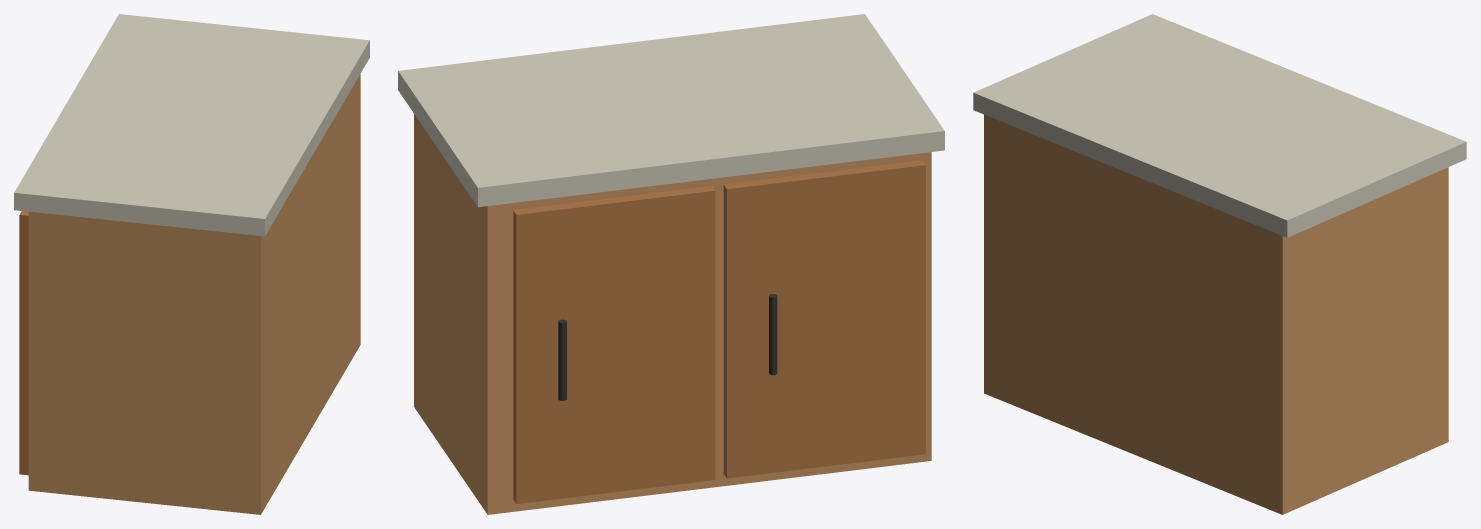
Rendered from kitchen-diagonal-cabinet.gltf.
3 views of the same model, side by side, from view 1: azimuth 30°, elevation 25°; view 2: azimuth 150°, elevation 25°; view 3: azimuth 270°, elevation 25° (orthographic). The views are drawn at different scales.
Visible parts, largest first — view 1: Diagonal kitchen return cabinet, Diagonal kitchen return stone worktop, Diagonal kitchen cupboard face 0; view 2: Diagonal kitchen return stone worktop, Diagonal kitchen cupboard face 0, Diagonal kitchen cupboard face 1, Diagonal kitchen return cabinet, Diagonal cabinet handle 0, Diagonal cabinet handle 1; view 3: Diagonal kitchen return cabinet, Diagonal kitchen return stone worktop.
Part boxes in pixels (box(x1,y1,x2,y2)): Diagonal kitchen return cabinet: box(28, 74, 360, 514); Diagonal kitchen return stone worktop: box(14, 14, 369, 236); Diagonal kitchen cupboard face 0: box(19, 211, 28, 475); Diagonal kitchen return stone worktop: box(398, 14, 944, 207); Diagonal kitchen cupboard face 0: box(723, 160, 925, 478); Diagonal kitchen cupboard face 1: box(513, 186, 715, 503); Diagonal kitchen return cabinet: box(414, 114, 931, 514); Diagonal cabinet handle 0: box(769, 294, 777, 375); Diagonal cabinet handle 1: box(558, 319, 566, 400); Diagonal kitchen return cabinet: box(984, 114, 1448, 514); Diagonal kitchen return stone worktop: box(973, 14, 1466, 237).
Size of the model in its own units: 1.14 by 0.775 by 1.15.
